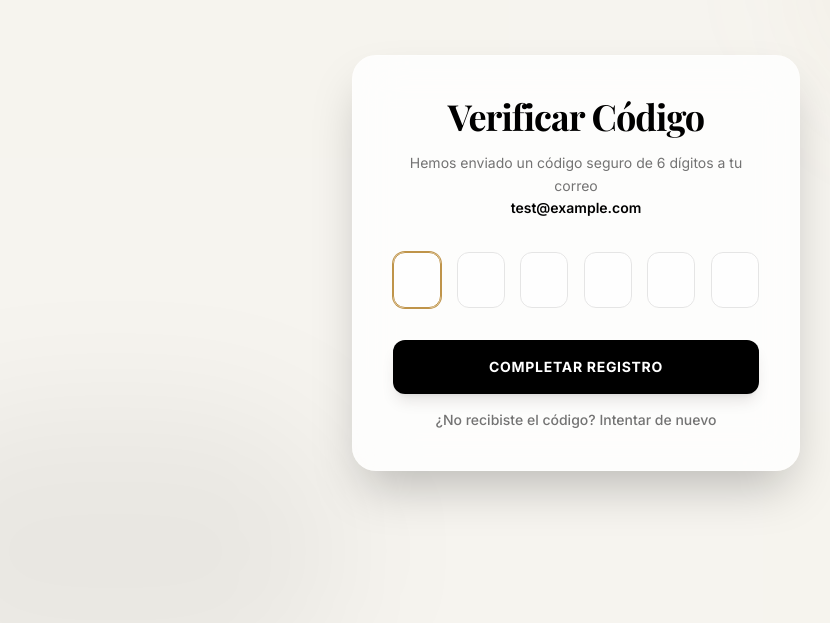
Test case: OtpPage › shows generic error on network failure
Type "1" into the 1st field.
click(417, 280); type("1")  # box [393,252,441,308]
Type "1" into the 2nd field.
click(481, 280); type("1")  # box [457,252,505,308]
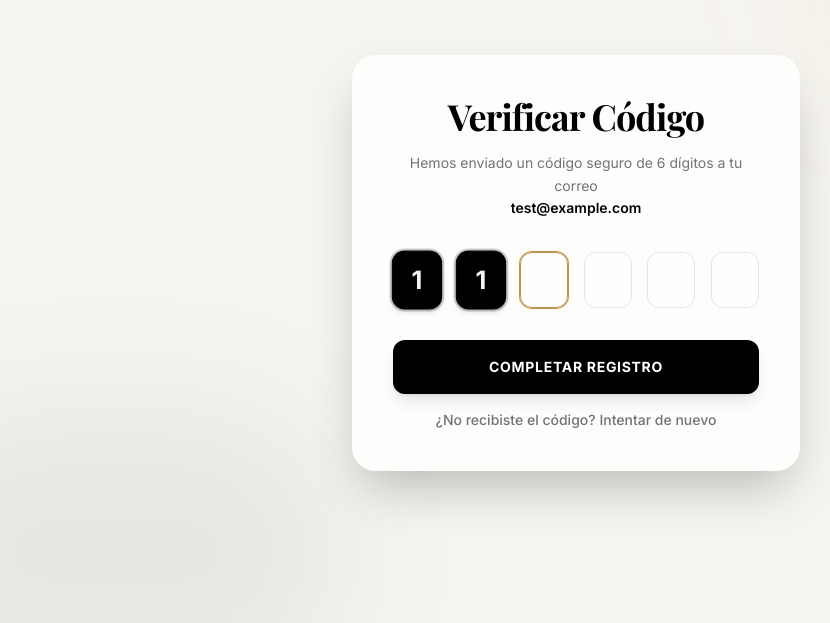
Type "1" into the 3rd field.
click(544, 280); type("1")  # box [520,252,568,308]
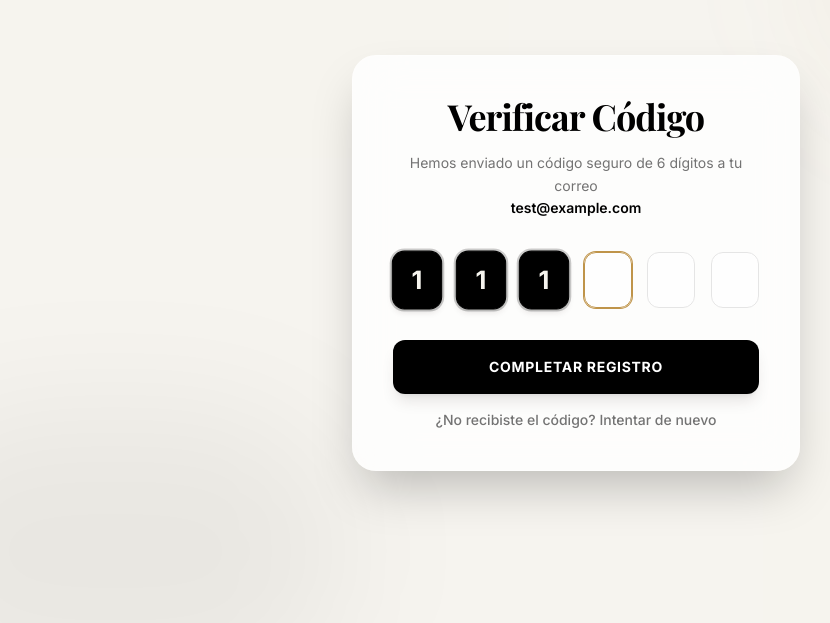
Type "1" into the 4th field.
click(608, 280); type("1")  # box [584,252,632,308]
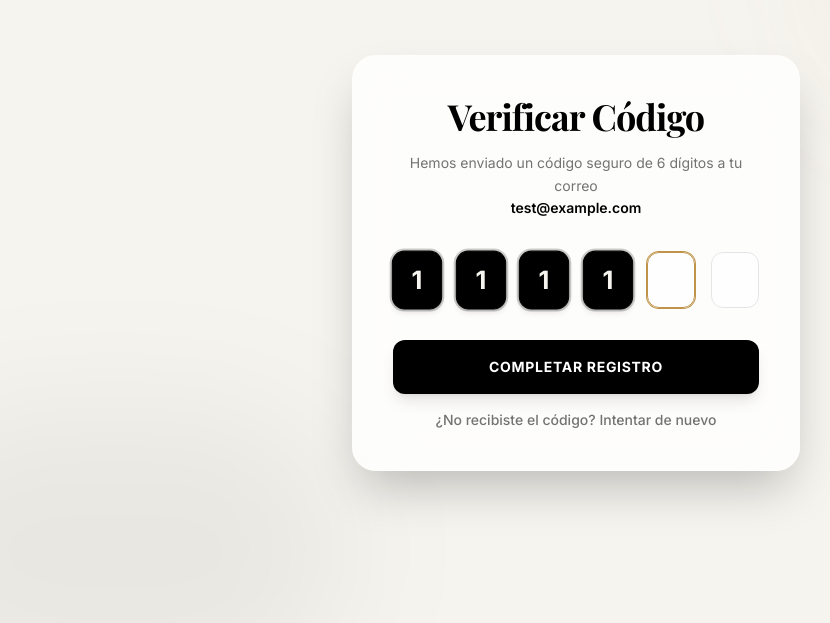
Type "1" into the 5th field.
click(671, 280); type("1")  # box [647,252,695,308]
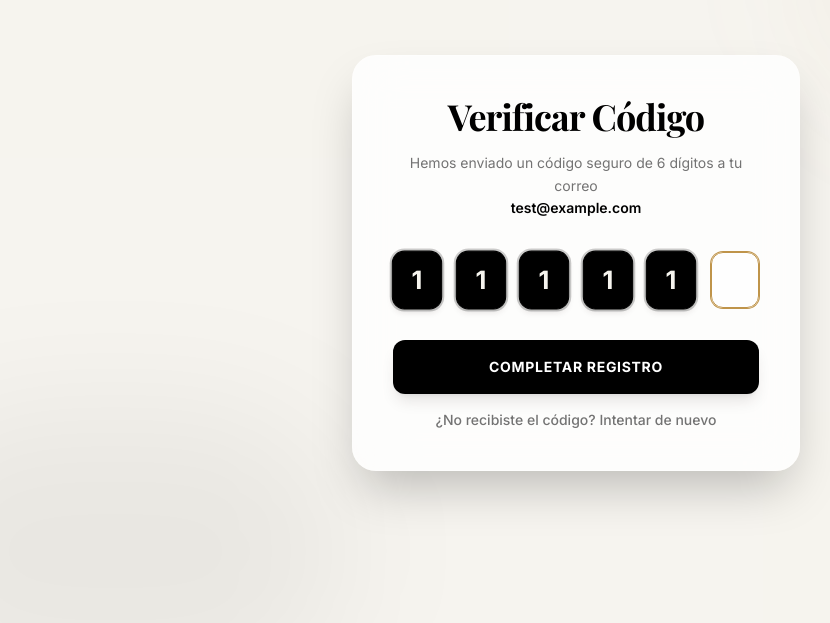
Type "1" into the 6th field.
click(735, 280); type("1")  # box [711,252,759,308]
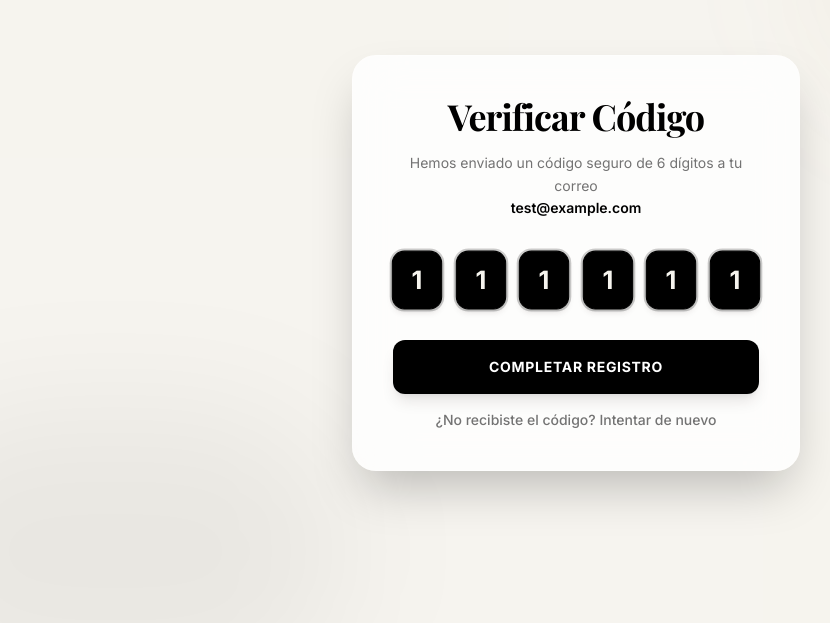
Click the button "Completar Registro".
click(576, 367)  # box [393,340,759,394]
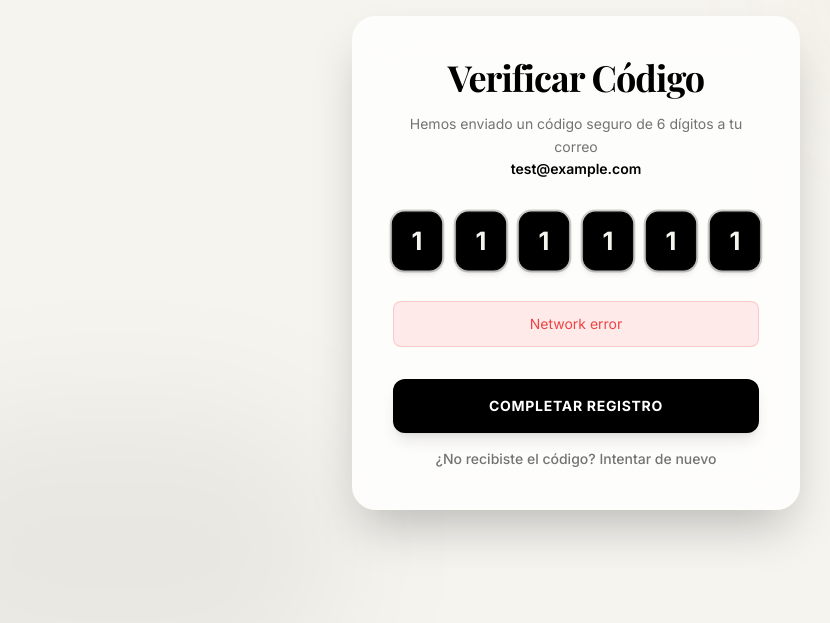
Result: the text "Network error" is shown at [393,301,759,347]
